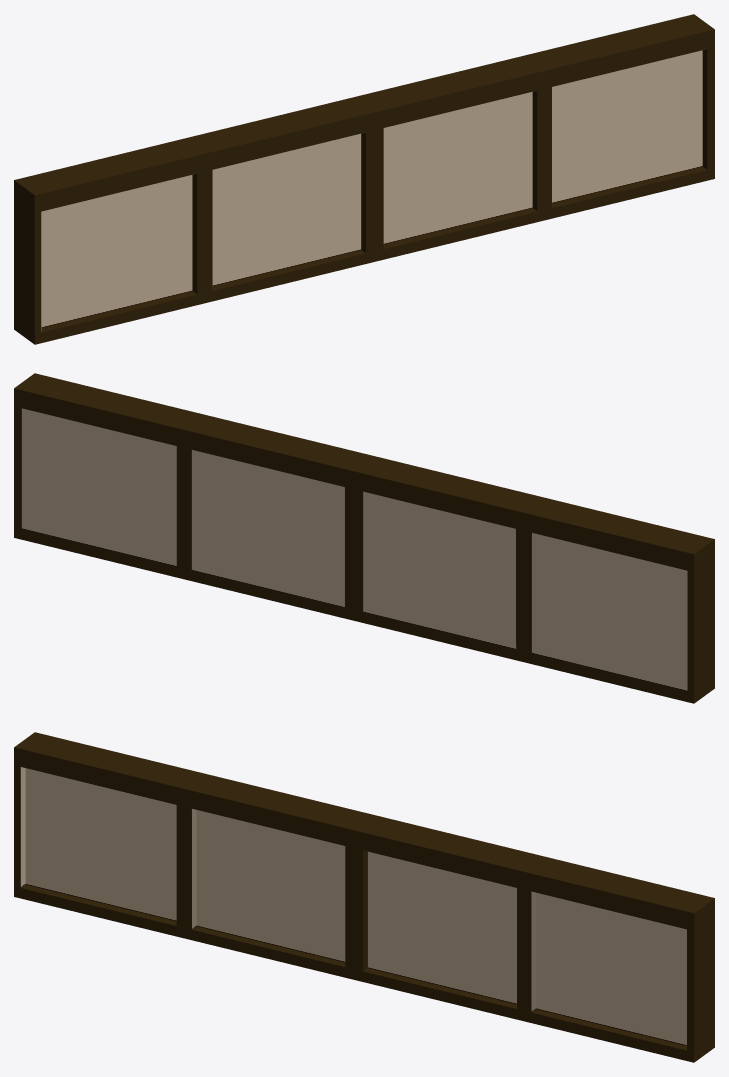
Rendered from selectWall.obj.
3 views of the same model, one above another, from view 1: azimuth 30°, elevation 25°; view 2: azimuth 150°, elevation 25°; view 3: azimuth 330°, elevation 25° (orthographic).
Visible parts, largest first — view 1: 立方体; view 2: 立方体; view 3: 立方体.
Part boxes in pixels (x1,y1,x2,y2): 立方体: (14,14,714,344); 立方体: (14,373,714,703); 立方体: (14,732,714,1062).
Size of the model in its own units: 16.1 by 3.38 by 0.8568.
1 material, 1 textured.
